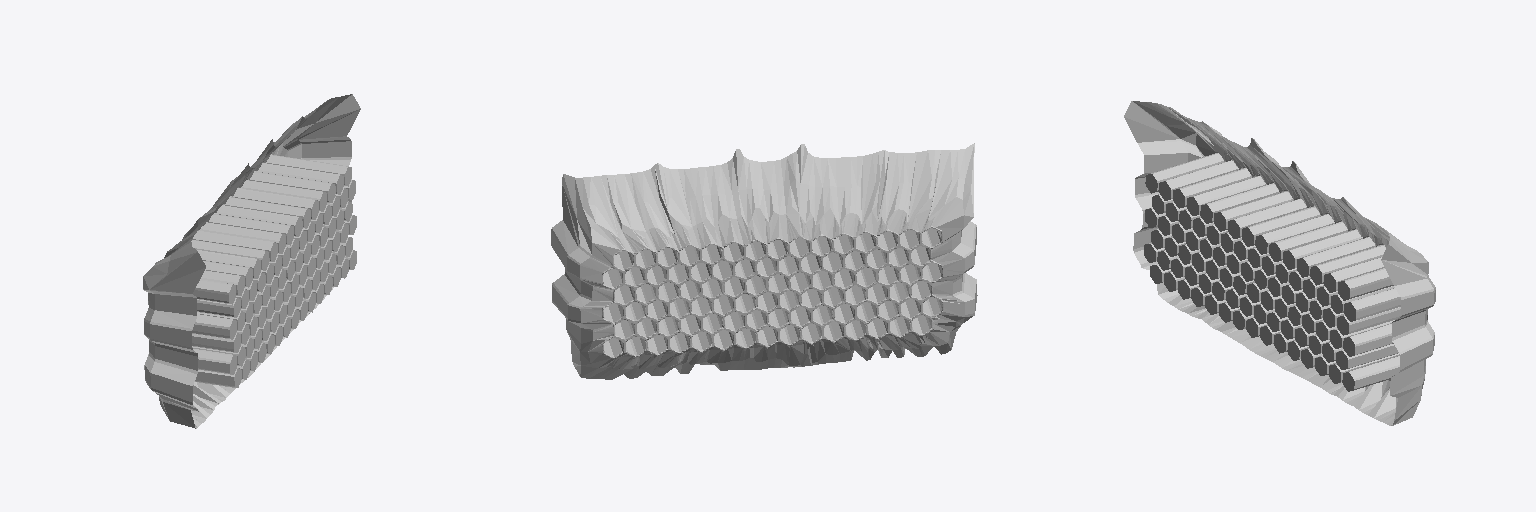
Rendered from Rock2_Hive.obj.
The picture shows the model from 3 angles: view 1: azimuth 30°, elevation 25°; view 2: azimuth 150°, elevation 25°; view 3: azimuth 270°, elevation 25°; orthographic projection.
Visible parts, largest first — view 1: Cube.007.holes.098_Cylinder.107; view 2: Cube.007.holes.098_Cylinder.107; view 3: Cube.007.holes.098_Cylinder.107.
Boxes of the visible parts, <box> form: Cube.007.holes.098_Cylinder.107: <box>143,94,360,428</box>; Cube.007.holes.098_Cylinder.107: <box>551,143,977,379</box>; Cube.007.holes.098_Cylinder.107: <box>1124,101,1435,425</box>.
Bounding box in the file's own units: 12.23 × 8.04 × 10.57.